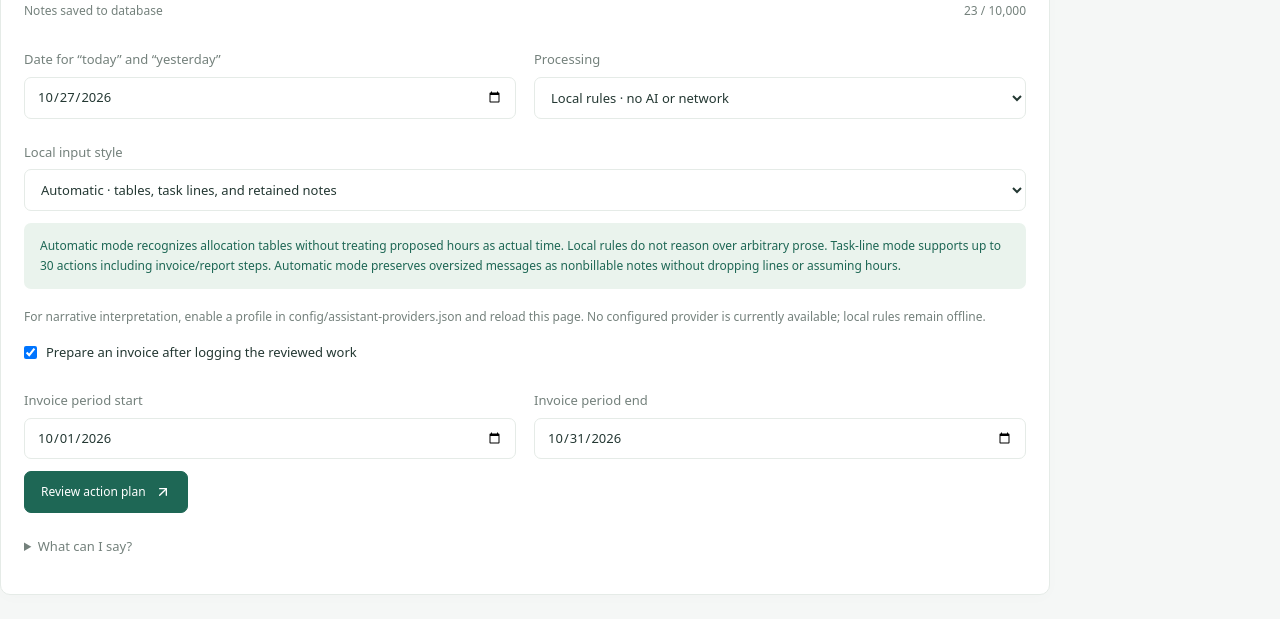
restores notes and requires an explicit plan confirmation before applying
(page scrolled)
Click the button "Review action plan": (106, 492) 24,471 -> 188,513
(page scrolled)
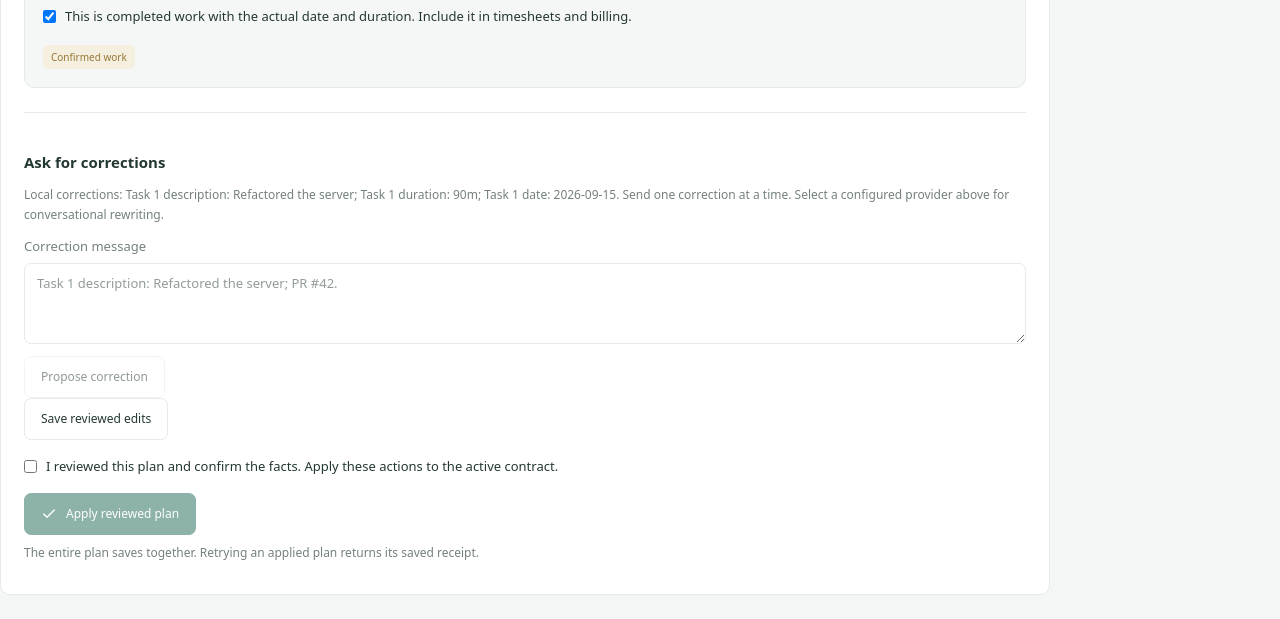
Expected: the button "Apply reviewed plan" is disabled, 24,493 -> 196,535
Click the checkbox named "Confirm reviewed action plan": (30, 466) 24,460 -> 37,473
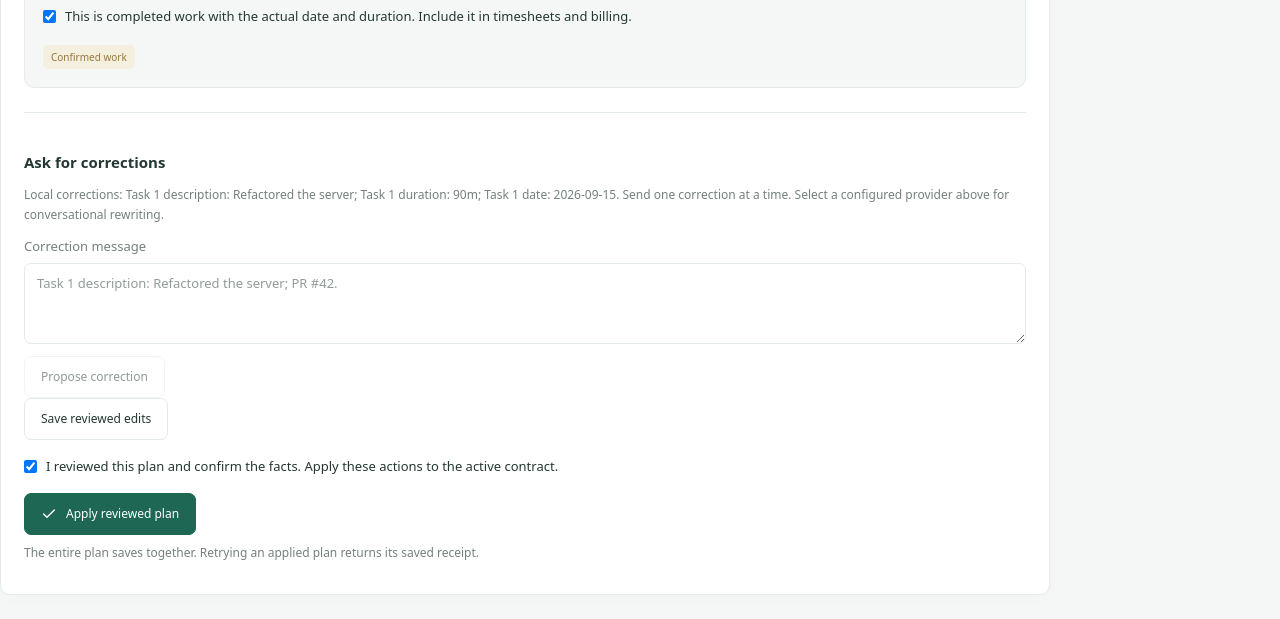
Click the button "Apply reviewed plan": (110, 514) 24,493 -> 196,535
(page scrolled)
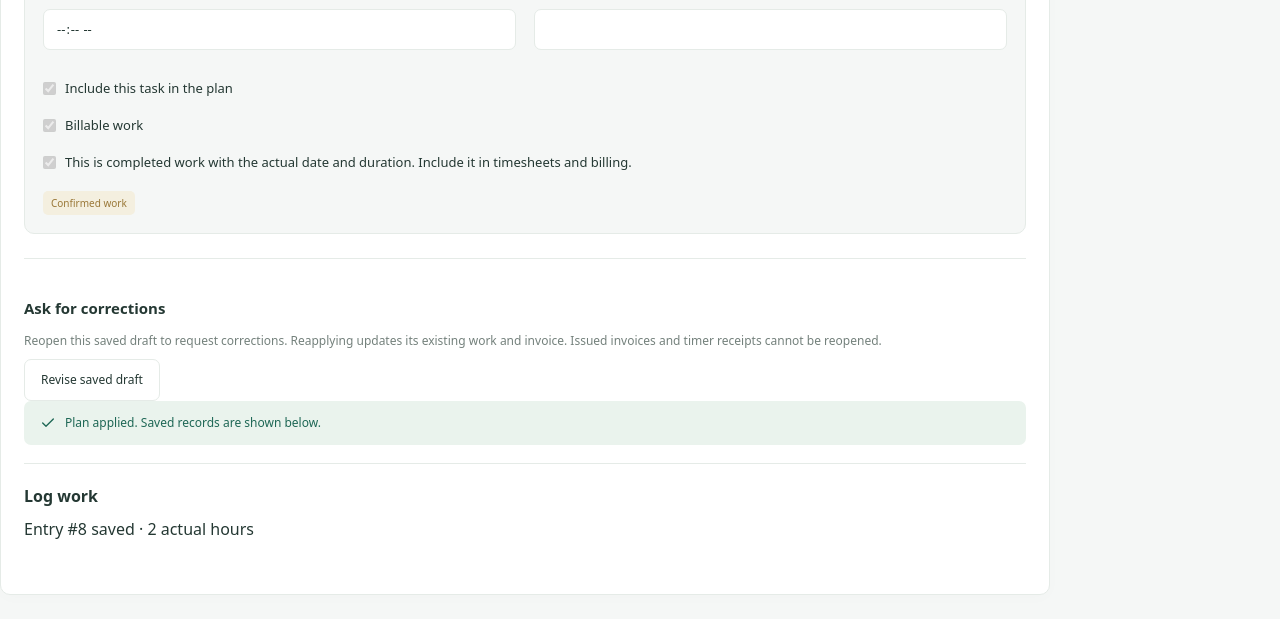
Expected: the text "Entry #8 saved · 2 actual hours" is shown, 24,518 -> 254,540
Expected: the button "Apply reviewed plan" is gone
